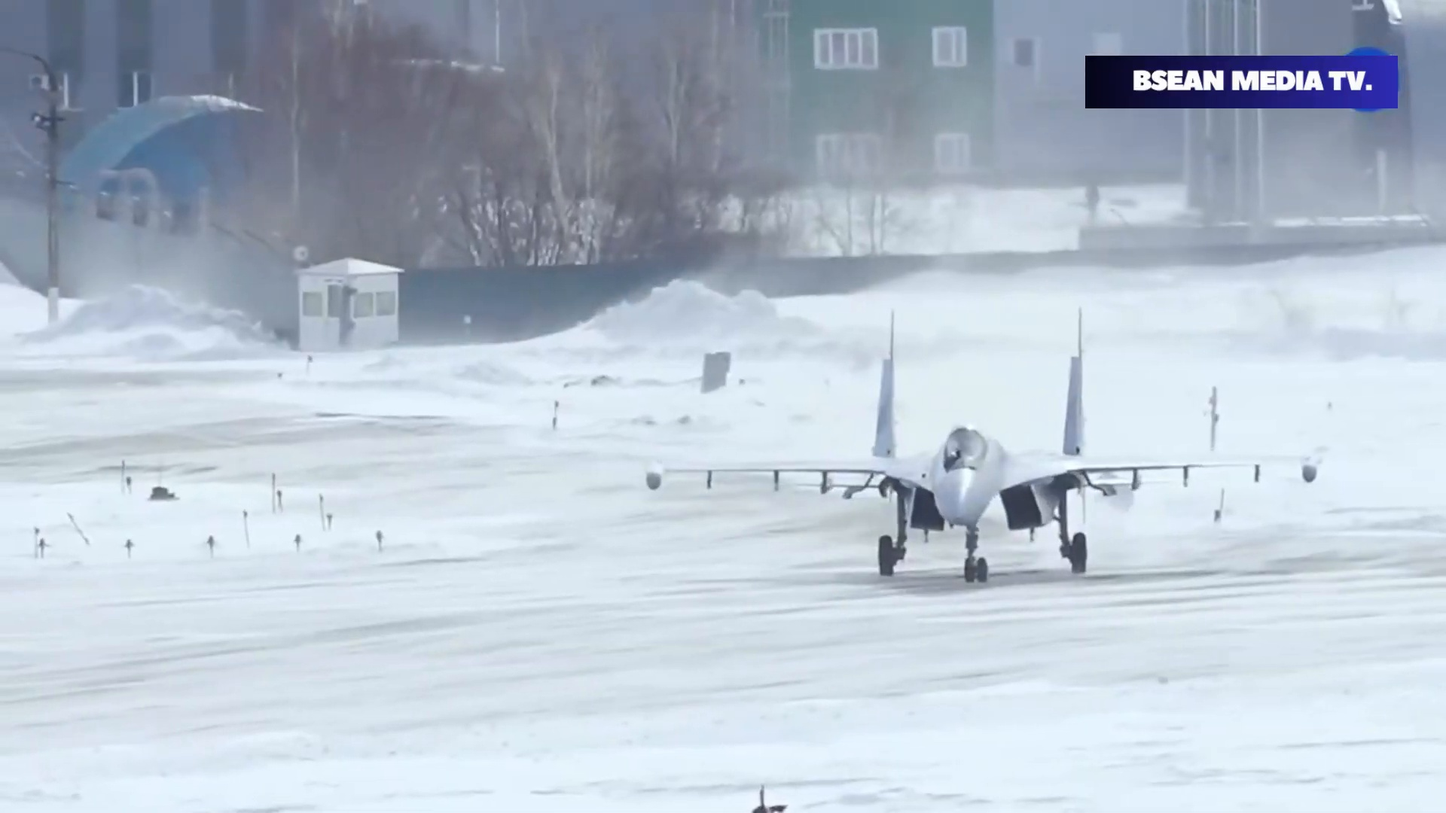Su35: (647, 305, 1329, 583)
